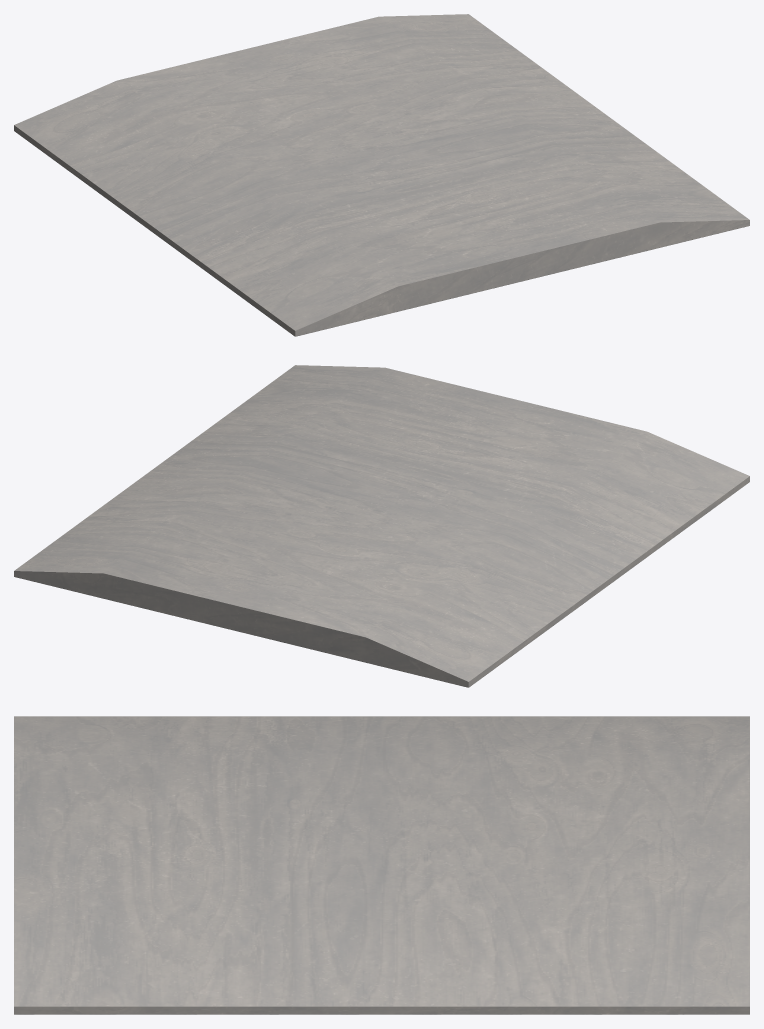
The picture shows the model from 3 angles, top to bottom: view 1: azimuth 30°, elevation 25°; view 2: azimuth 150°, elevation 25°; view 3: azimuth 270°, elevation 25°; orthographic projection. The views are drawn at different scales.
Parts seen in each view (by area): view 1: Box003; view 2: Box003; view 3: Box003.
Boxes of the visible parts, bbox=[...] form: Box003: bbox=[14, 14, 749, 336]; Box003: bbox=[14, 365, 749, 687]; Box003: bbox=[14, 716, 749, 1014].
Bounding box in the file's own units: 1435 × 76.39 × 1537.
